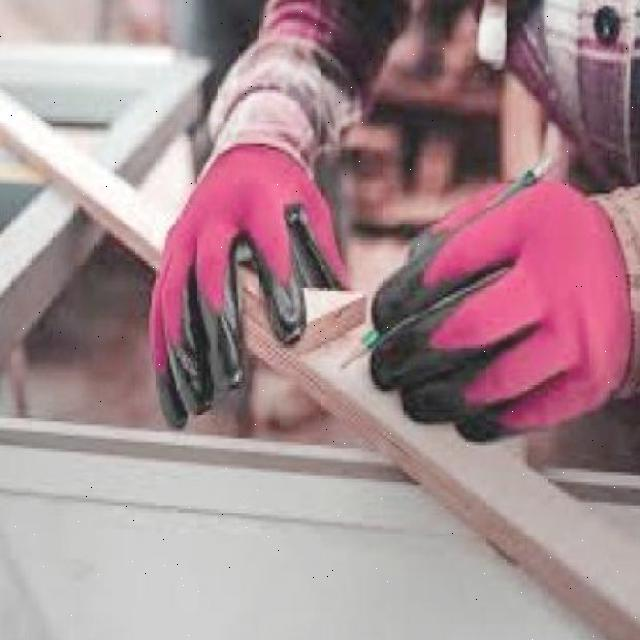Gloves: (371, 173, 632, 442), (150, 144, 348, 428)
